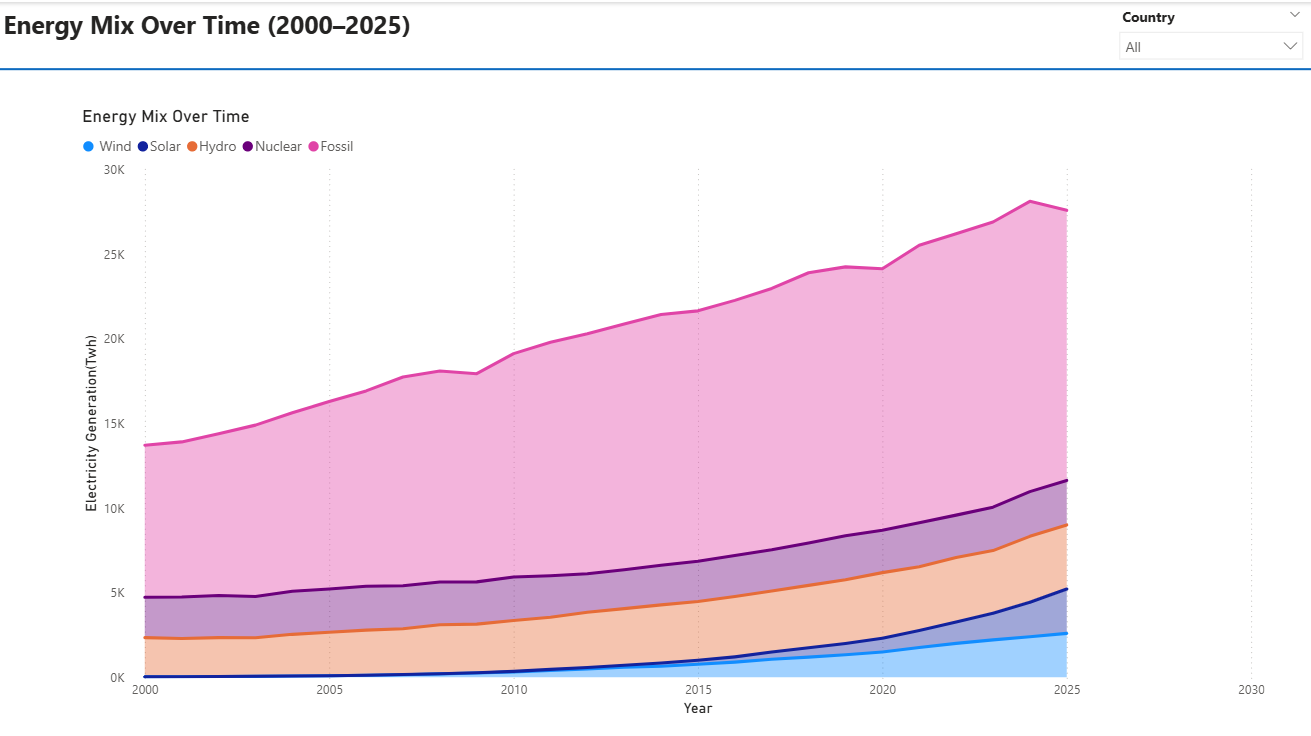

The page's visual inventory and layout, read from the dashboard file:
{"tool":"powerbi","page":{"name":"3_Energy_Mix_Over_Time","canvas":[1280,720],"ordinal":2},"visuals":[{"type":"textbox","box":[0,0,462,50.6],"z":0},{"type":"stackedAreaChart","title":"Energy Mix Over Time","fields":{"Category":["fact_energy.year"],"Y":["Sum(fact_energy.wind_electricity_twh)","Sum(fact_energy.solar_electricity_twh)","Sum(fact_energy.hydro_electricity_twh)","Sum(fact_energy.nuclear_electricity_twh)","Sum(fact_energy.fossil_electricity_twh)"]},"box":[77,101,1160,599],"z":1000},{"type":"slicer","fields":{"Values":["fact_energy.country"]},"box":[1081,0,199,59],"z":2000},{"type":"shape","box":[0,59,1280,12],"z":4000}]}

Visuals, with their boxes in screenshot pixels (x1, y1, x2, y2), scaled from the page's 1280x720 canvas onto the 1311x736 screenshot:
textbox: <box>0,0,473,52</box>
"Energy Mix Over Time" stackedAreaChart: <box>79,103,1267,716</box>
slicer - fact_energy.country: <box>1107,0,1310,60</box>
shape: <box>0,60,1310,73</box>
